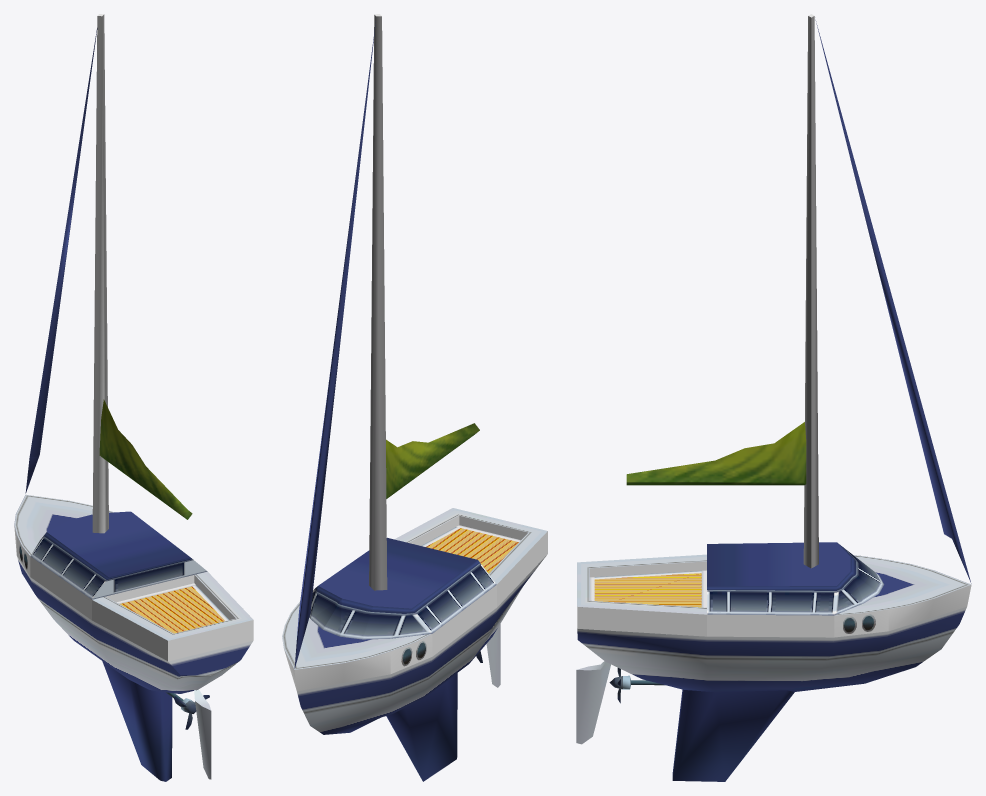
File: riccoyachts.dae
3 views of the same model, side by side, from view 1: azimuth 30°, elevation 25°; view 2: azimuth 150°, elevation 25°; view 3: azimuth 270°, elevation 25° (orthographic). The views are drawn at different scales.
Visible parts, largest first — view 1: n0b0; view 2: n0b0; view 3: n0b0.
Boxes of the visible parts, x1,y1,x2,y2 form: n0b0: (14, 14, 253, 781); n0b0: (282, 14, 547, 781); n0b0: (576, 14, 971, 781).
Bounding box in the file's own units: 444 × 2563 × 1198.
1 material, 1 textured.
